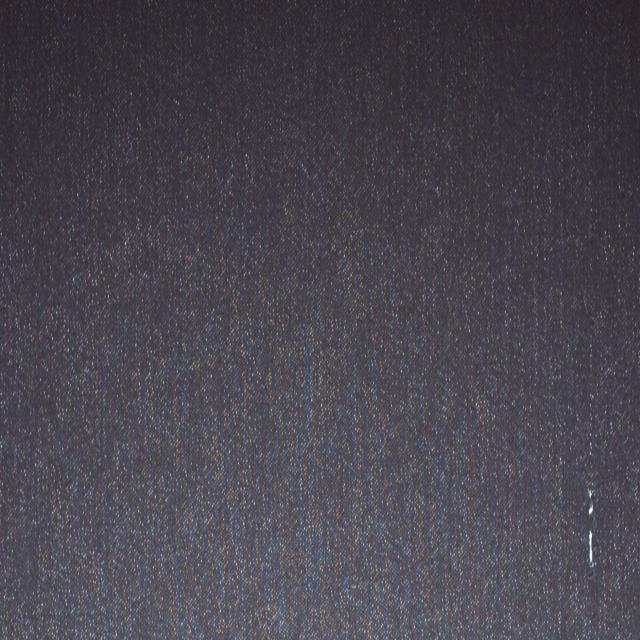Knot: (588, 487, 598, 570)
